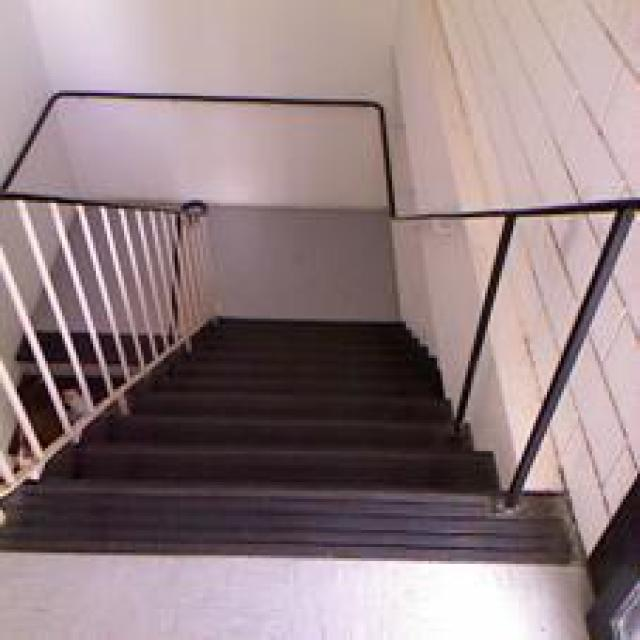downstair: (24, 416, 520, 571)
